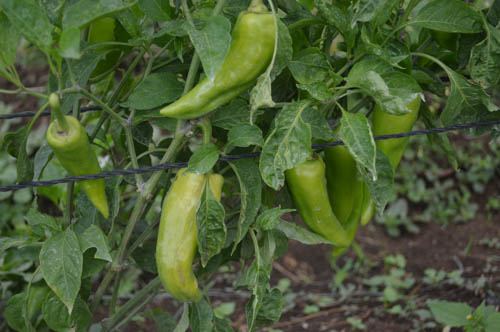ChiliPepper: (160, 17, 276, 120), (156, 167, 221, 305), (364, 83, 424, 223), (50, 120, 109, 219), (322, 136, 363, 253), (293, 158, 344, 247)
